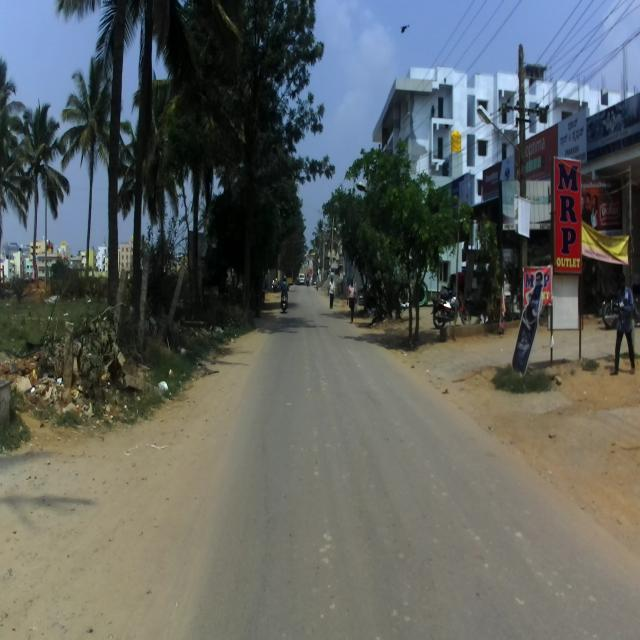person ahead at: (608, 272, 637, 378)
stones ahead at: (38, 319, 143, 423)
